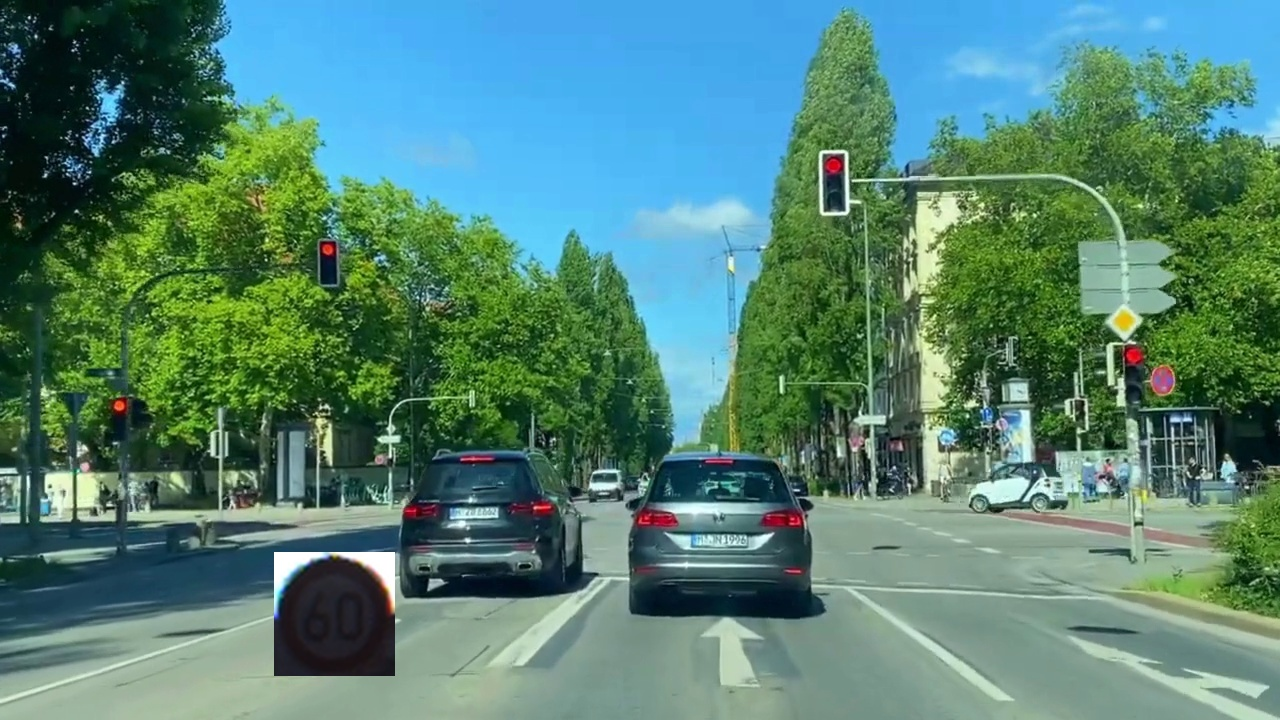Speed 60: (274, 552, 395, 676)
